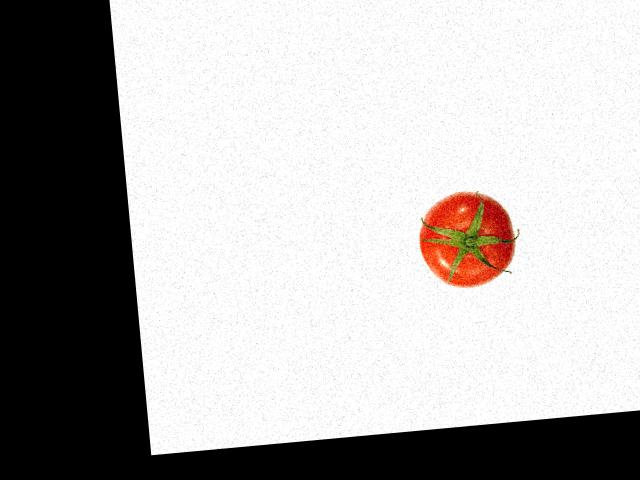tomato: (414, 187, 518, 291)
